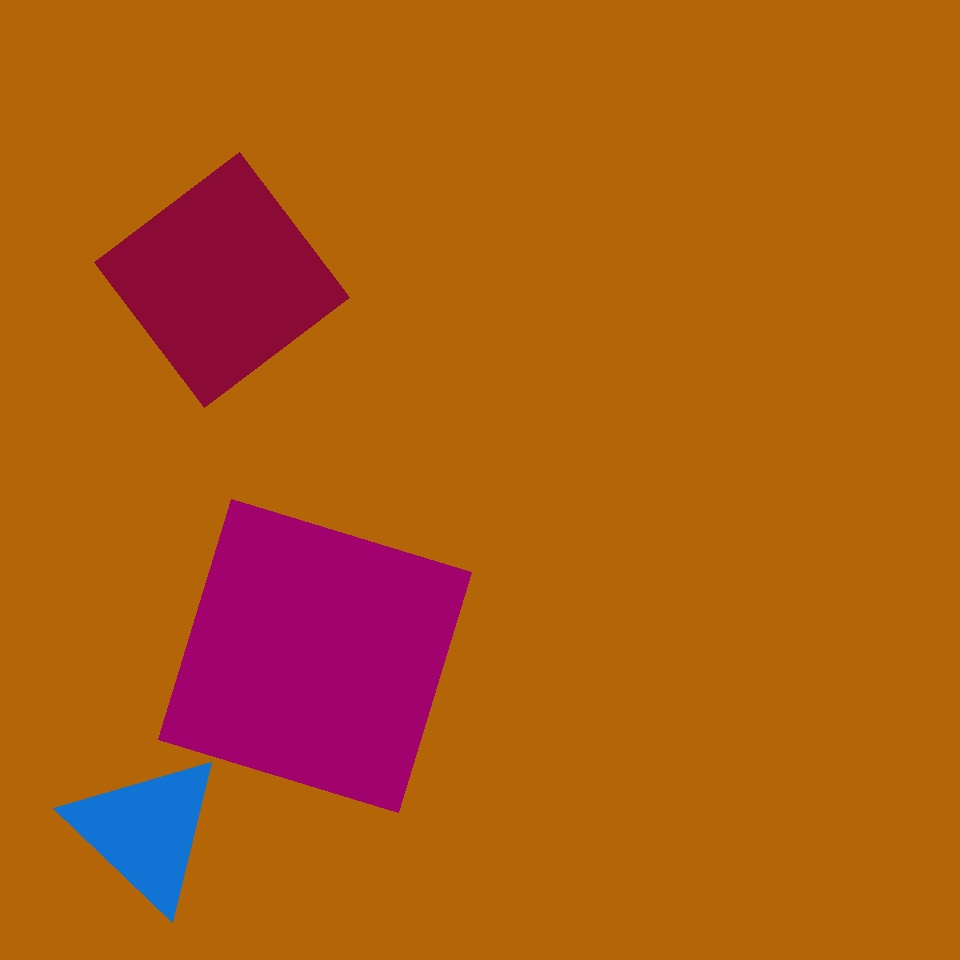circle: (67, 751, 225, 911)
square: (158, 499, 472, 813), (95, 153, 350, 408)
triangle: (226, 300, 581, 656), (291, 24, 554, 287)
